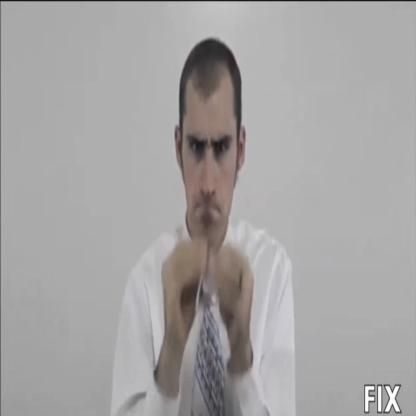Fix: (152, 200, 264, 375)
